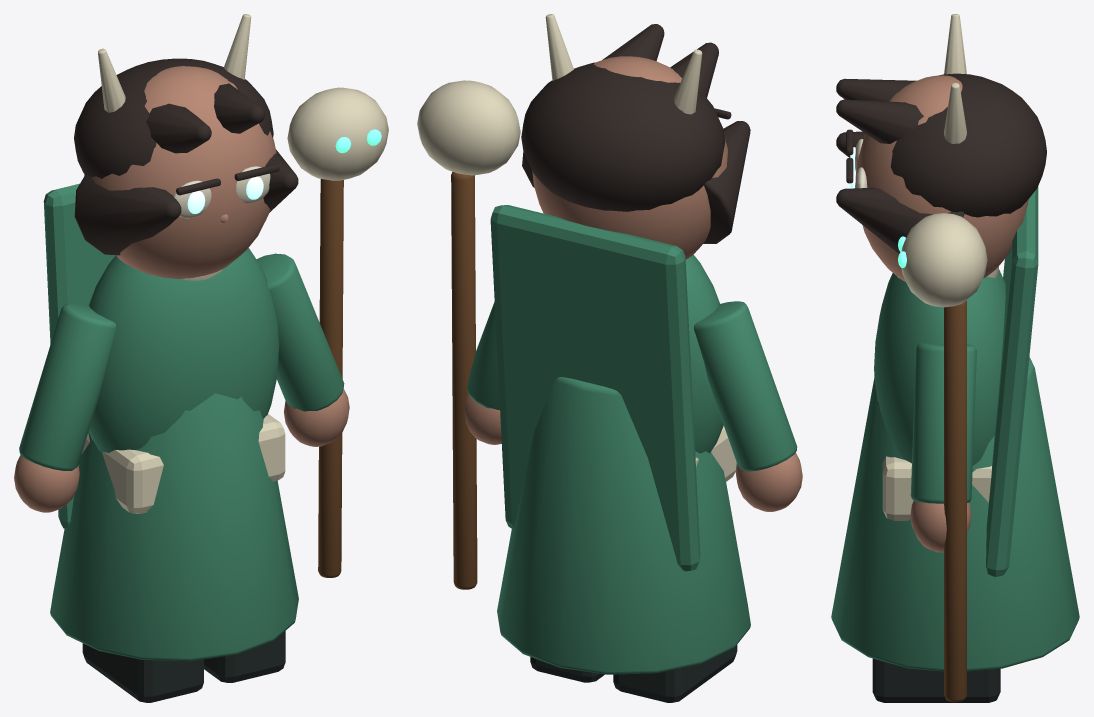
The model's file is hero-necromancer.glb.
3 renders of one model, left to right at view 1: azimuth 30°, elevation 25°; view 2: azimuth 150°, elevation 25°; view 3: azimuth 270°, elevation 25°, orthographic. The views are drawn at different scales.
Visible parts, largest first — view 1: necromancer_Robe, necromancer_Torso, necromancer_Head, necromancer_ArmL, necromancer_HairCap, necromancer_Staff, necromancer_ArmR, necromancer_StaffSkull, necromancer_Cape, necromancer_HairLock, necromancer_Waist, necromancer_Boot (+8 smaller); view 2: necromancer_Robe, necromancer_Cape, necromancer_HairCap, necromancer_ArmL, necromancer_Staff, necromancer_StaffSkull, necromancer_Head, necromancer_Torso, necromancer_HairLock, necromancer_Boot, necromancer_HandL, necromancer_ArmR (+7 smaller); view 3: necromancer_Robe, necromancer_HairCap, necromancer_Torso, necromancer_Cape, necromancer_Staff, necromancer_Head, necromancer_StaffSkull, necromancer_ArmR, necromancer_Boot.001, necromancer_HairLock.001, necromancer_HairLock.003, necromancer_Waist (+4 smaller).
Boxes of the visible parts, box(x1,y1,x2,y2) form: necromancer_Robe: box(50, 393, 298, 661); necromancer_Torso: box(88, 248, 279, 452); necromancer_Head: box(84, 66, 276, 278); necromancer_ArmL: box(19, 303, 115, 470); necromancer_HairCap: box(74, 58, 273, 178); necromancer_Staff: box(318, 179, 343, 577); necromancer_ArmR: box(256, 253, 344, 411); necromancer_StaffSkull: box(287, 87, 388, 180); necromancer_Cape: box(43, 183, 115, 528); necromancer_HairLock: box(74, 173, 181, 255); necromancer_Waist: box(81, 414, 285, 513); necromancer_Boot: box(82, 643, 203, 702); necromancer_Robe: box(497, 377, 750, 674); necromancer_Cape: box(490, 205, 700, 571); necromancer_HairCap: box(521, 62, 725, 211); necromancer_ArmL: box(694, 301, 797, 471); necromancer_Staff: box(451, 171, 477, 589); necromancer_StaffSkull: box(417, 80, 520, 175); necromancer_Head: box(532, 56, 727, 259); necromancer_Torso: box(685, 255, 723, 453); necromancer_HairLock: box(703, 121, 750, 243); necromancer_Boot: box(613, 645, 737, 702); necromancer_HandL: box(735, 452, 802, 511); necromancer_ArmR: box(467, 302, 499, 409); necromancer_Robe: box(831, 356, 1079, 671); necromancer_HairCap: box(890, 73, 1046, 217); necromancer_Torso: box(874, 269, 1005, 465); necromancer_Cape: box(986, 186, 1038, 576); necromancer_Staff: box(944, 300, 966, 702); necromancer_Head: box(856, 75, 1028, 281); necromancer_StaffSkull: box(901, 213, 987, 307); necromancer_ArmR: box(910, 342, 976, 503); necromancer_Boot.001: box(872, 658, 1000, 702); necromancer_HairLock.001: box(836, 187, 964, 253); necromancer_HairLock.003: box(836, 99, 923, 143); necromancer_Waist: box(882, 456, 991, 520).
Bounding box in the file's own units: 1.44 × 2.36 × 0.8542.
